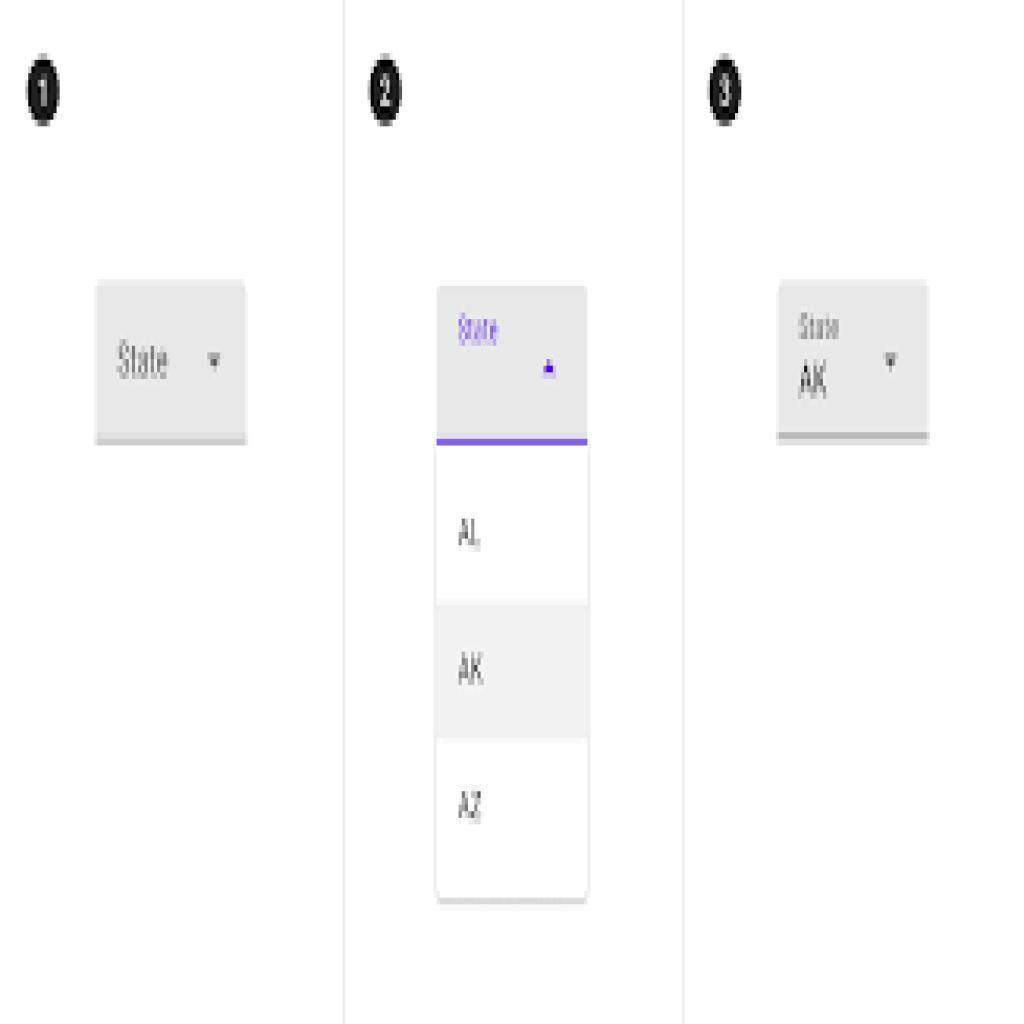dropdown: (435, 285, 591, 447), (95, 283, 248, 448), (778, 282, 932, 445)
